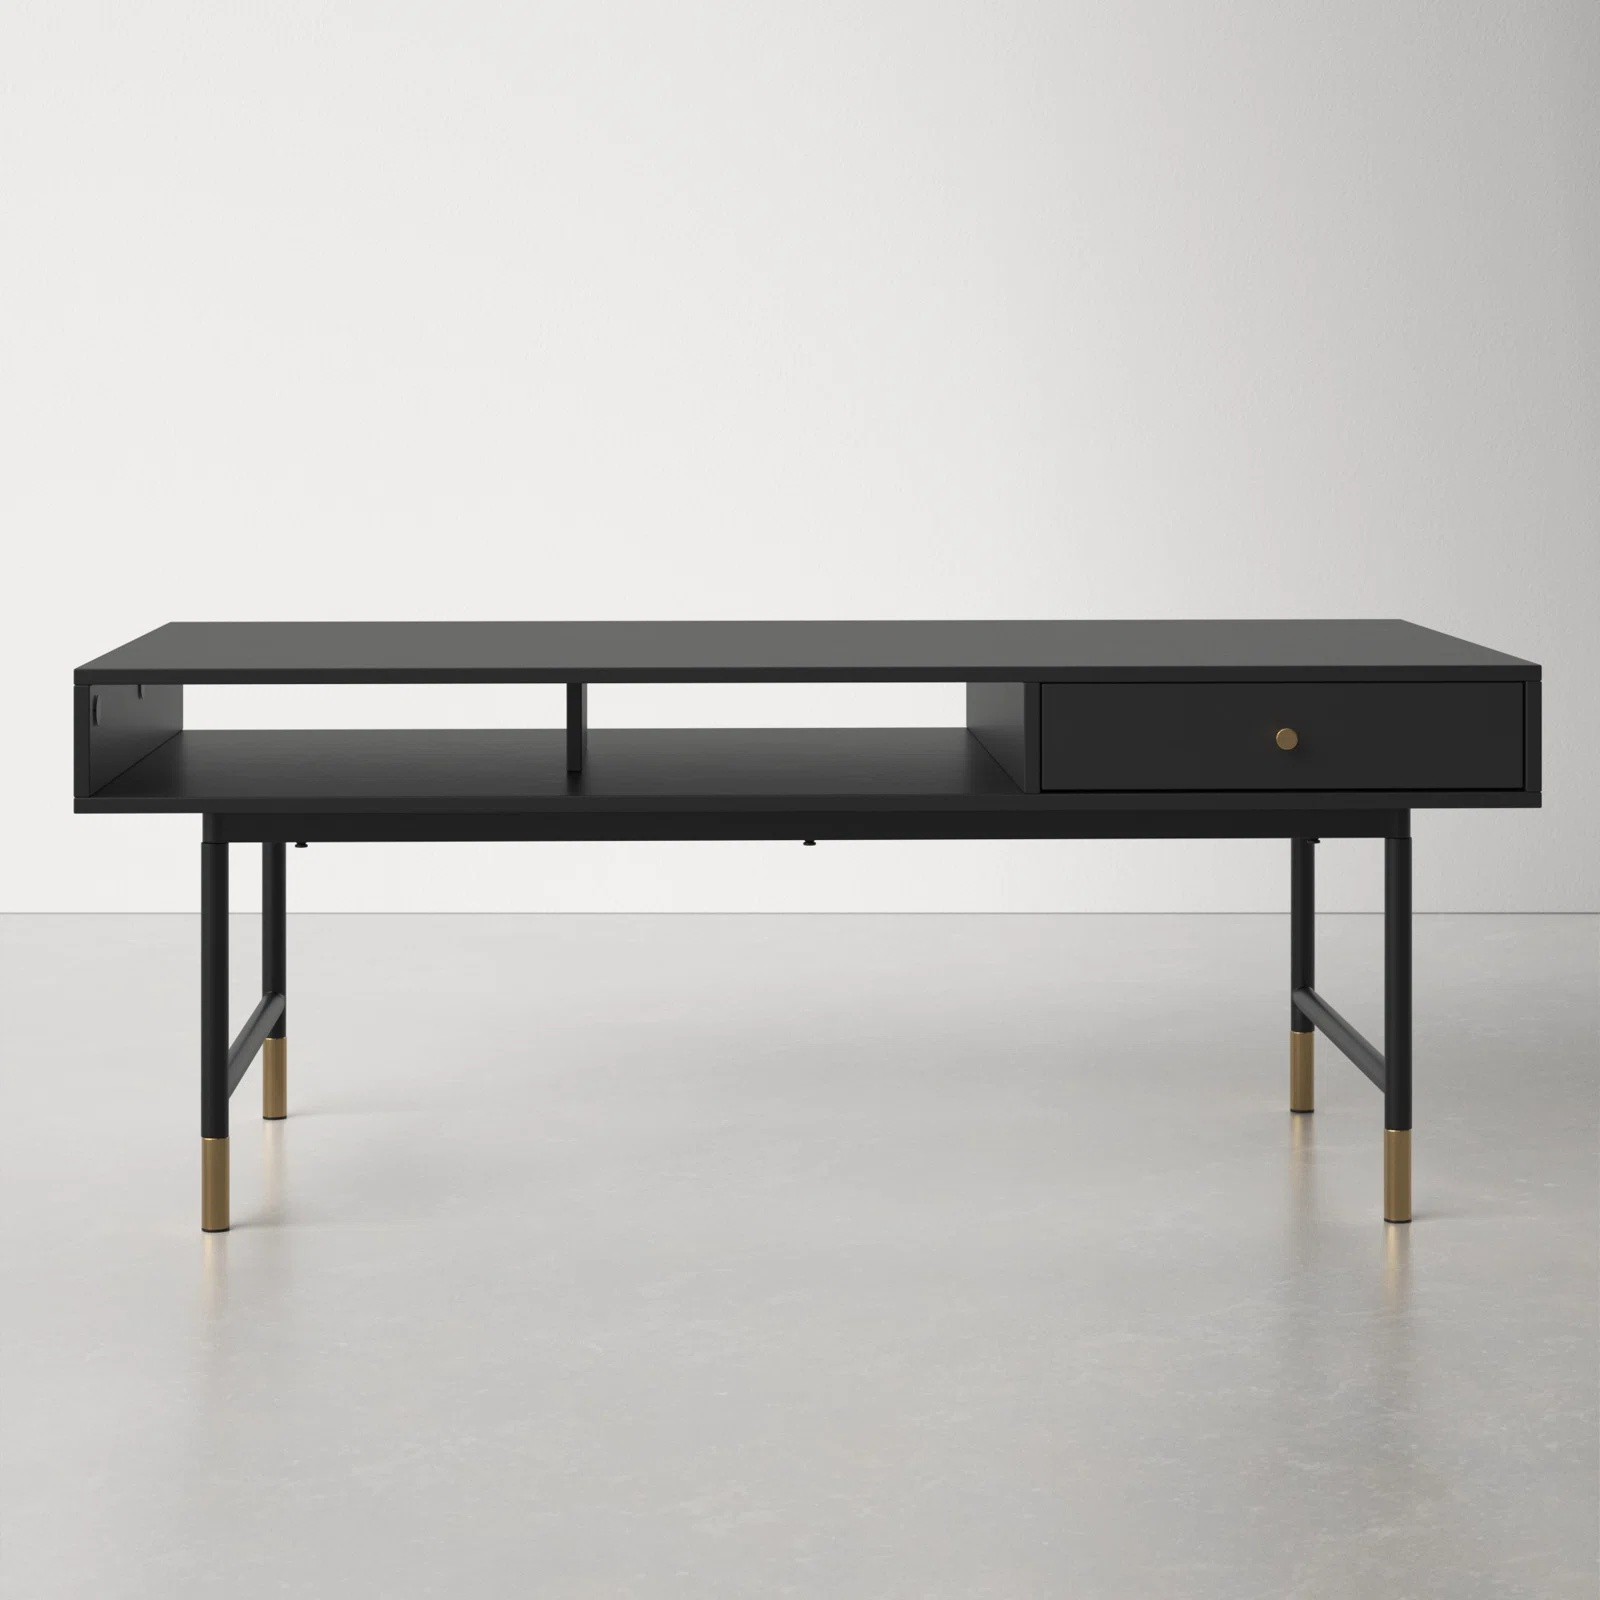obstacle: (75, 620, 1540, 1231)
